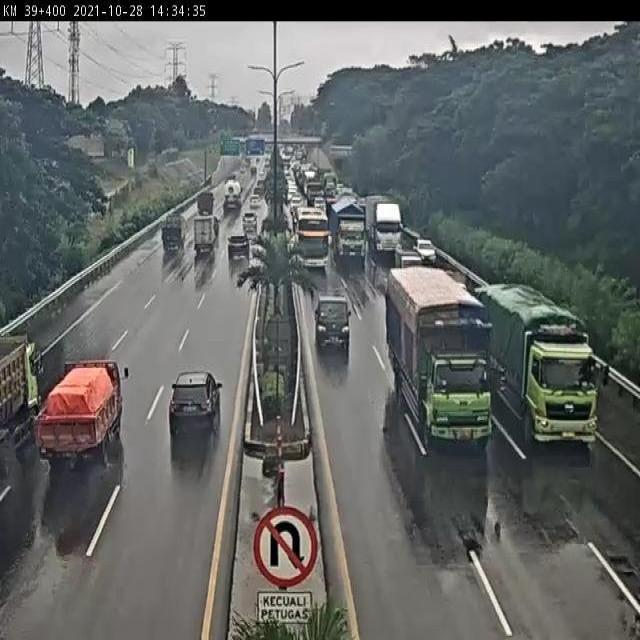big bus: (293, 208, 330, 271)
big truck: (471, 284, 600, 447), (383, 265, 488, 443), (329, 195, 370, 264), (364, 188, 402, 255)
car: (169, 373, 223, 436), (314, 299, 353, 349), (226, 232, 249, 263), (415, 236, 437, 263), (242, 212, 255, 228)
small truck: (35, 358, 130, 470), (156, 219, 184, 256), (190, 219, 213, 257), (193, 192, 214, 221)
